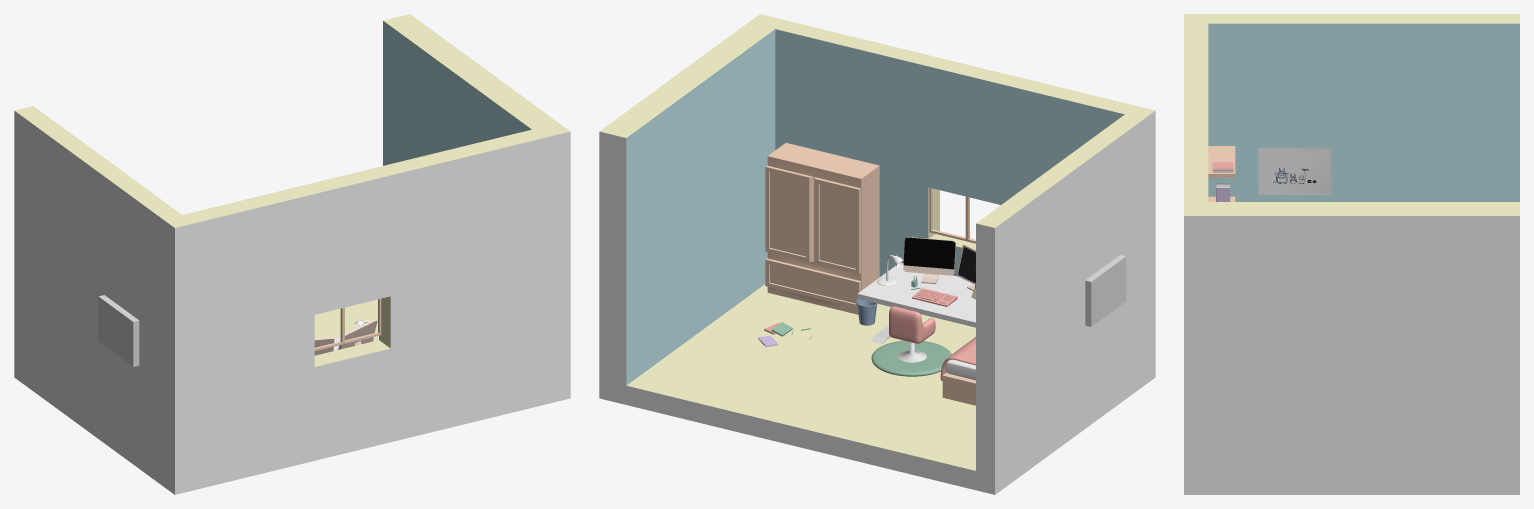
File: Study_Room_27.glb
3 renders of one model, left to right at view 1: azimuth 30°, elevation 25°; view 2: azimuth 150°, elevation 25°; view 3: azimuth 270°, elevation 25°, orthographic. The views are drawn at different scales.
Parts seen in each view (by area): view 1: Room, Poster; view 2: Room, Closet, Table Top, Poster, Rug, Desktop Screen, Chair, Bedframe; view 3: Room, Poster.001, Shelf.001.
Boxes of the visible parts, x1,y1,x2,y2 form: Room: (14, 14, 570, 494); Poster: (98, 295, 139, 366); Room: (599, 14, 1155, 494); Closet: (765, 143, 879, 314); Table Top: (857, 263, 975, 327); Poster: (1085, 255, 1126, 326); Rug: (871, 340, 951, 376); Desktop Screen: (903, 237, 955, 269); Chair: (889, 306, 935, 343); Bedframe: (942, 372, 975, 405); Room: (1184, 14, 1519, 494); Poster.001: (1258, 147, 1331, 194); Shelf.001: (1208, 146, 1235, 177).
Size of the model in its own units: 28.14 by 17.86 by 19.48.
Materials: 29 (4 with a texture image).
